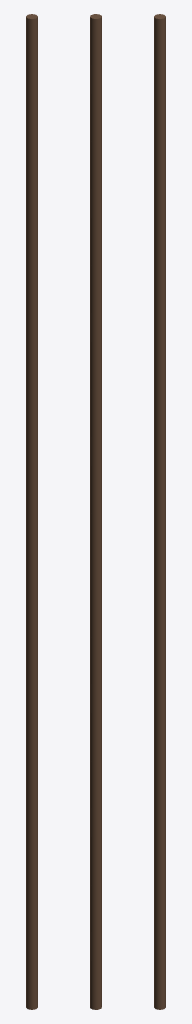
File: HangingLightRope.fbx
The picture shows the model from 3 angles, left to right: view 1: azimuth 90°, elevation 25°; view 2: azimuth 150°, elevation 25°; view 3: azimuth 270°, elevation 25°; orthographic projection.
Visible parts, largest first — view 1: CylidricalHangingLight.053, CylidricalHangingLight.056, CylidricalHangingLight.057, CylidricalHangingLight.054, CylidricalHangingLight.055, CylidricalHangingLight.058, CylidricalHangingLight.059, CylidricalHangingLight.060; view 2: CylidricalHangingLight.053, CylidricalHangingLight.055, CylidricalHangingLight.056, CylidricalHangingLight.054, CylidricalHangingLight.057, CylidricalHangingLight.058, CylidricalHangingLight.059, CylidricalHangingLight.060; view 3: CylidricalHangingLight.053, CylidricalHangingLight.056, CylidricalHangingLight.057, CylidricalHangingLight.054, CylidricalHangingLight.055, CylidricalHangingLight.058, CylidricalHangingLight.059, CylidricalHangingLight.060.
Boxes of the visible parts, <box> form: CylidricalHangingLight.053: <box>26,14,37,142</box>; CylidricalHangingLight.056: <box>26,388,37,514</box>; CylidricalHangingLight.057: <box>26,512,37,638</box>; CylidricalHangingLight.054: <box>26,141,37,266</box>; CylidricalHangingLight.055: <box>26,265,37,390</box>; CylidricalHangingLight.058: <box>26,636,37,762</box>; CylidricalHangingLight.059: <box>26,760,37,885</box>; CylidricalHangingLight.060: <box>26,884,37,1009</box>; CylidricalHangingLight.053: <box>90,14,101,142</box>; CylidricalHangingLight.055: <box>90,264,101,390</box>; CylidricalHangingLight.056: <box>90,388,101,514</box>; CylidricalHangingLight.054: <box>90,140,101,266</box>; CylidricalHangingLight.057: <box>90,512,101,638</box>; CylidricalHangingLight.058: <box>90,636,101,762</box>; CylidricalHangingLight.059: <box>90,759,101,885</box>; CylidricalHangingLight.060: <box>90,883,101,1009</box>; CylidricalHangingLight.053: <box>154,14,165,142</box>; CylidricalHangingLight.056: <box>154,388,165,514</box>; CylidricalHangingLight.057: <box>154,512,165,638</box>; CylidricalHangingLight.054: <box>154,141,165,266</box>; CylidricalHangingLight.055: <box>154,265,165,390</box>; CylidricalHangingLight.058: <box>154,636,165,762</box>; CylidricalHangingLight.059: <box>154,760,165,885</box>; CylidricalHangingLight.060: <box>154,884,165,1009</box>.
Bounding box in the file's own units: 16.52 × 1467 × 16.52.
